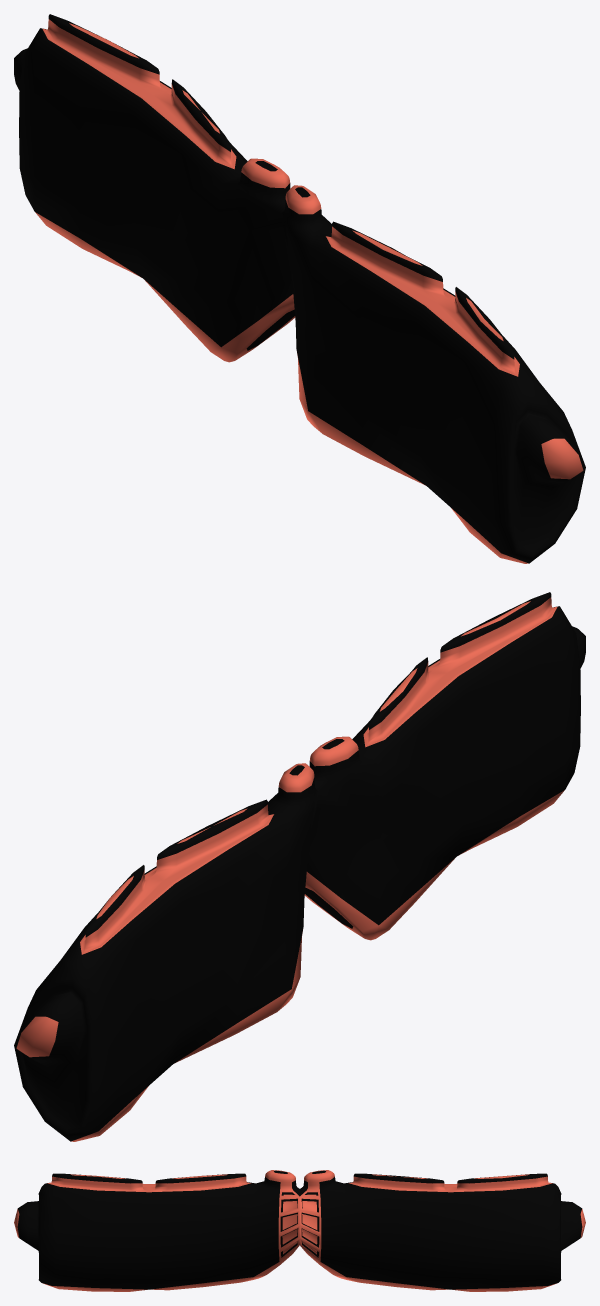
The model's file is Glasses.fbx.
The picture shows the model from 3 angles, top to bottom: view 1: azimuth 30°, elevation 25°; view 2: azimuth 150°, elevation 25°; view 3: azimuth 270°, elevation 25°; orthographic projection. The views are drawn at different scales.
Parts seen in each view (by area): view 1: Cube; view 2: Cube; view 3: Cube.
Part boxes in pixels (left/top/right/bottom): Cube: left=14, top=14, right=585, bottom=563; Cube: left=14, top=592, right=585, bottom=1141; Cube: left=14, top=1170, right=585, bottom=1291.
Bounding box in the file's own units: 37.25 × 82.37 × 379.
